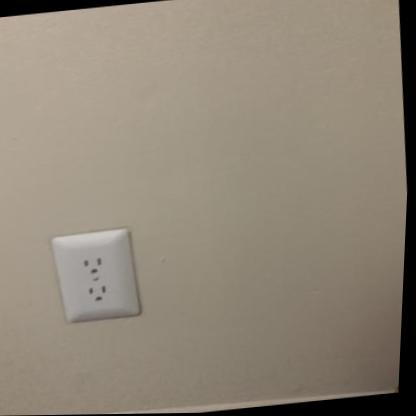OUTLET: (49, 228, 139, 322)
